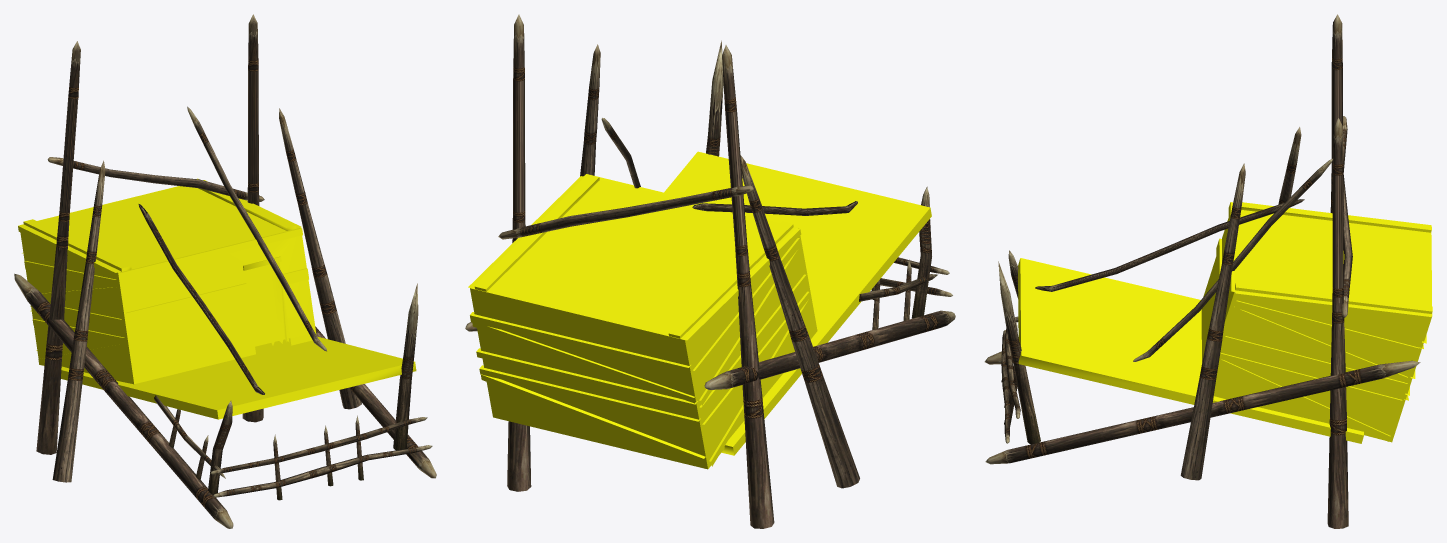
Rendered from gaint_build_a_02_d.glb.
3 views of the same model, side by side, from view 1: azimuth 30°, elevation 25°; view 2: azimuth 150°, elevation 25°; view 3: azimuth 270°, elevation 25° (orthographic). The views are drawn at different scales.
Visible parts, largest first — view 1: Object19, objObject01, objObject03; view 2: Object19, objObject01, objObject03; view 3: Object19, objObject01, objObject03.
Part boxes in pixels (x1,y1,x2,y2): Object19: (18,178,316,384); objObject01: (14,14,436,528); objObject03: (61,336,416,419); Object19: (468,174,817,469); objObject01: (465,14,955,528); objObject03: (664,151,931,455); Object19: (1201,202,1432,442); objObject01: (984,14,1420,528); objObject03: (1018,258,1363,443).
Size of the model in its own units: 11.39 by 16.36 by 15.68.
Materials: 3 (3 with a texture image).
